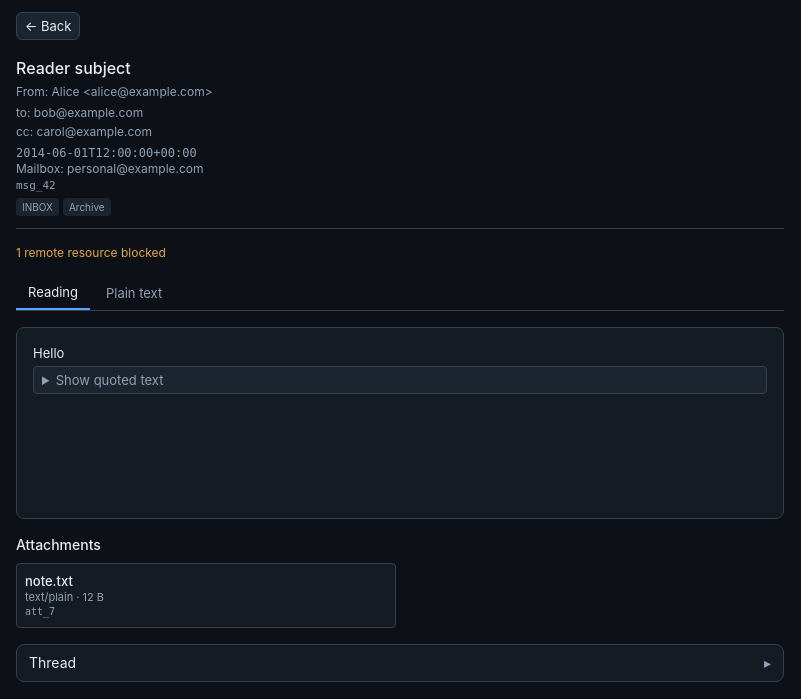
it: SourcePage reader › renders envelope, modes, attachments, and quoted HTML collapse
Expected: the heading "Reader subject" is shown, [16,58,131,78]
Expected: the text "From: Alice <alice@example.com>" is shown, [16,84,213,99]
Plain text mode
What coordinates should you click on to do the following:
click the tab with test id "mode-plain"
I would click on:
 (134, 294)
Its box is [94,277,174,310].
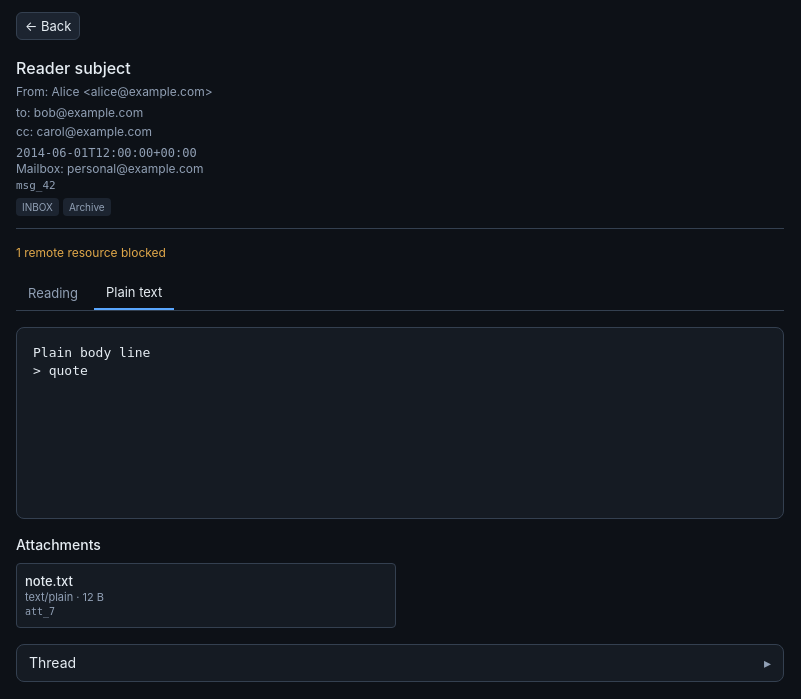
Expected: the text "note.txt" is shown, [25,572,73,588]
Expected: the text "Plain body line > quote" is shown, [33,344,150,378]
